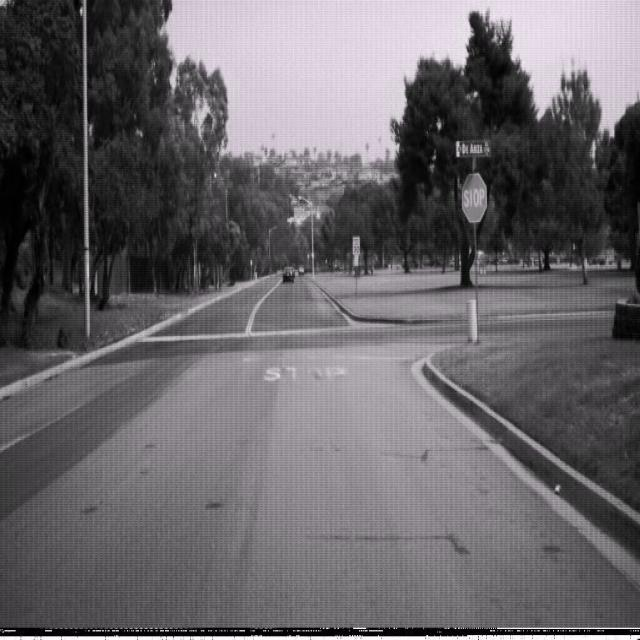stop: (461, 172, 487, 223)
